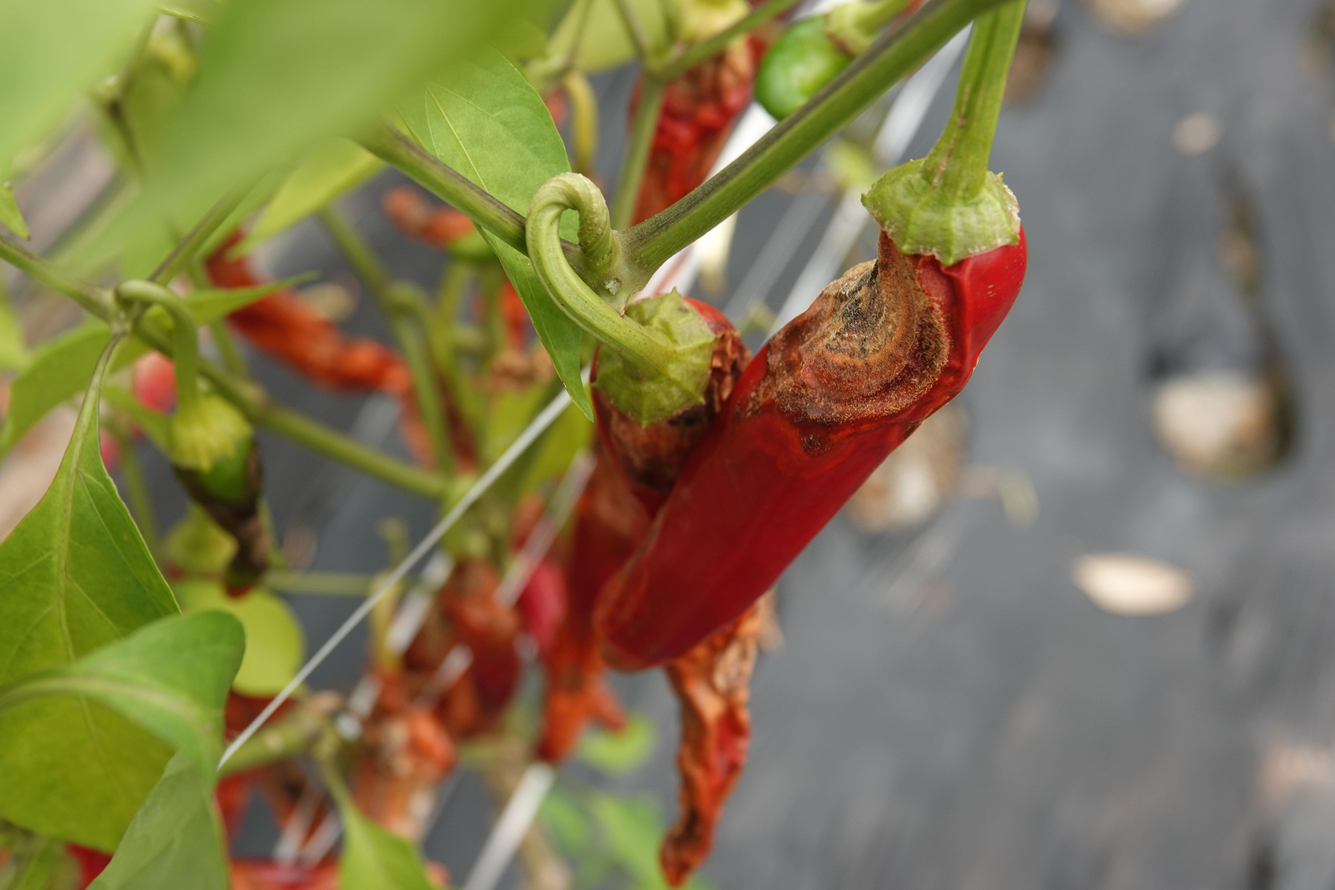Busuk Buah Antraknosa: (583, 158, 1029, 678)
